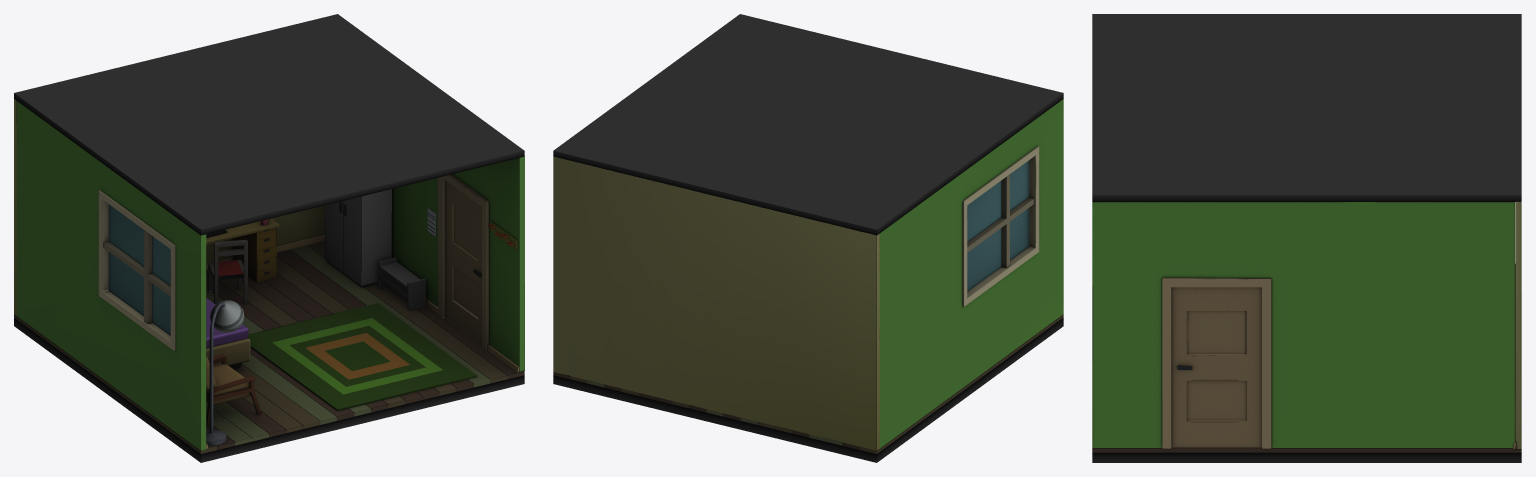
File: qKkDWj1uqLBmwnD5.glb
3 renders of one model, left to right at view 1: azimuth 30°, elevation 25°; view 2: azimuth 150°, elevation 25°; view 3: azimuth 270°, elevation 25°, orthographic. The views are drawn at different scales.
Visible parts, largest first — view 1: room; view 2: room; view 3: room.
Boxes of the visible parts, left/top/right/bottom form: room: left=14, top=14, right=524, bottom=462; room: left=553, top=14, right=1063, bottom=462; room: left=1092, top=14, right=1521, bottom=462.
Bounding box in the file's own units: 3.56 × 2.43 × 3.53.
Materials: 1 (1 with a texture image).
